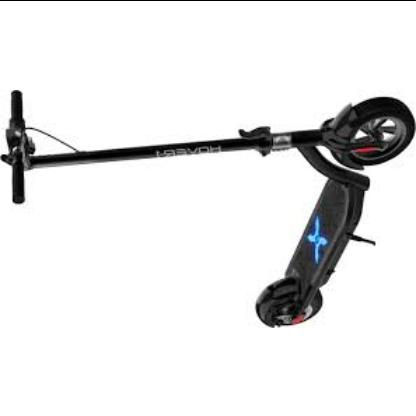bike: (1, 95, 416, 332), (253, 97, 416, 330)
